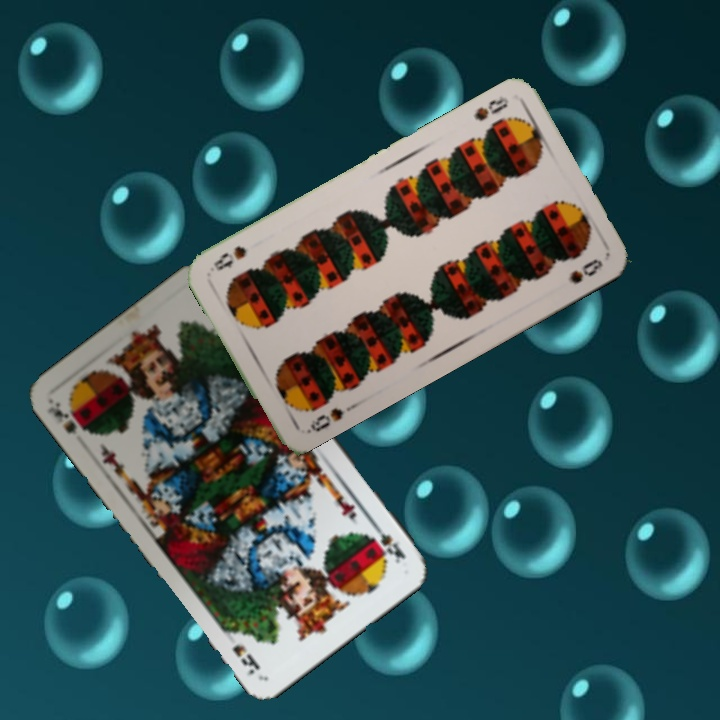S8: (302, 403, 347, 436), (470, 91, 512, 124)
SK: (42, 397, 94, 439), (367, 516, 409, 567)
